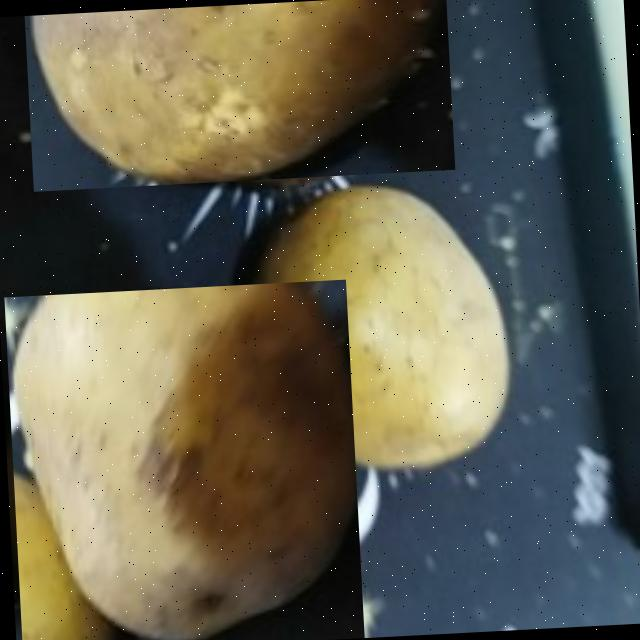Damaged potato: (4, 279, 364, 640), (24, 0, 455, 191)
Potato: (246, 174, 514, 482)
